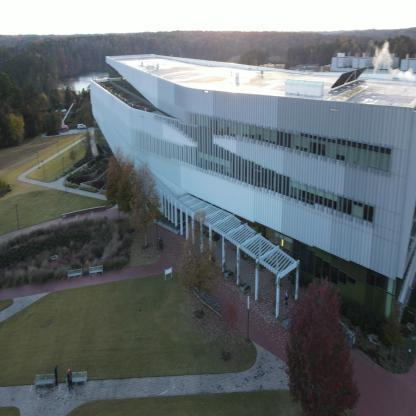Hunt Library: (80, 28, 415, 320)
